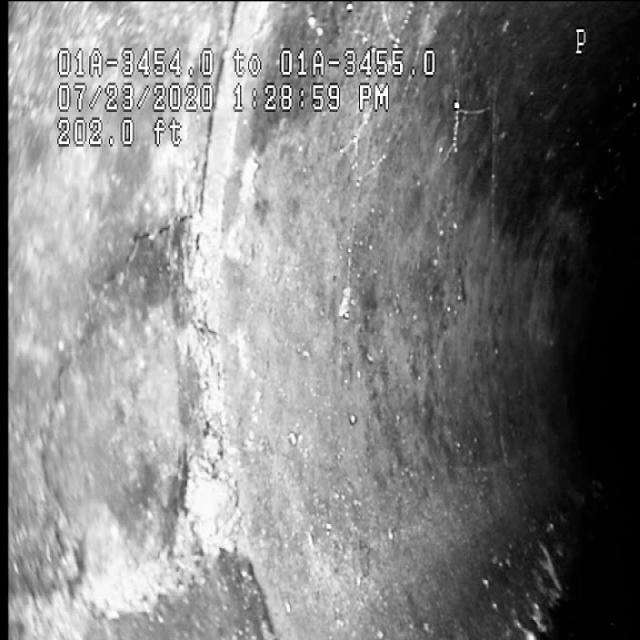Crack: (27, 184, 185, 585)
